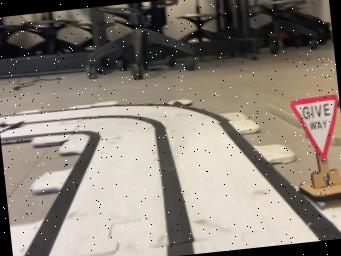give_way: (290, 94, 341, 208), (290, 94, 341, 208), (290, 94, 341, 208), (290, 94, 341, 208), (290, 94, 341, 208), (290, 94, 341, 208)
street: (17, 103, 341, 256), (17, 103, 341, 256), (17, 103, 341, 256), (17, 103, 341, 256), (17, 103, 341, 256), (17, 103, 341, 256)
